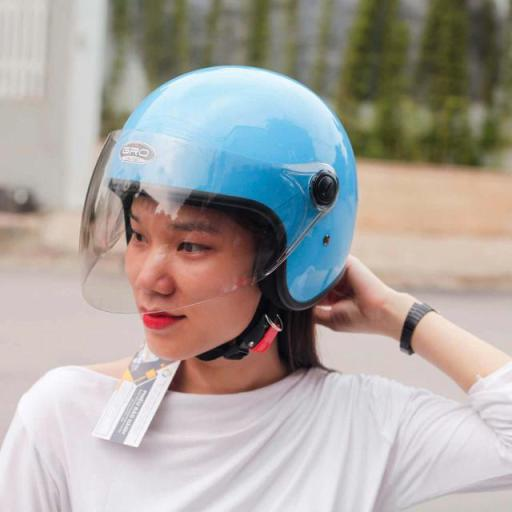with helmet: (56, 52, 410, 318)
